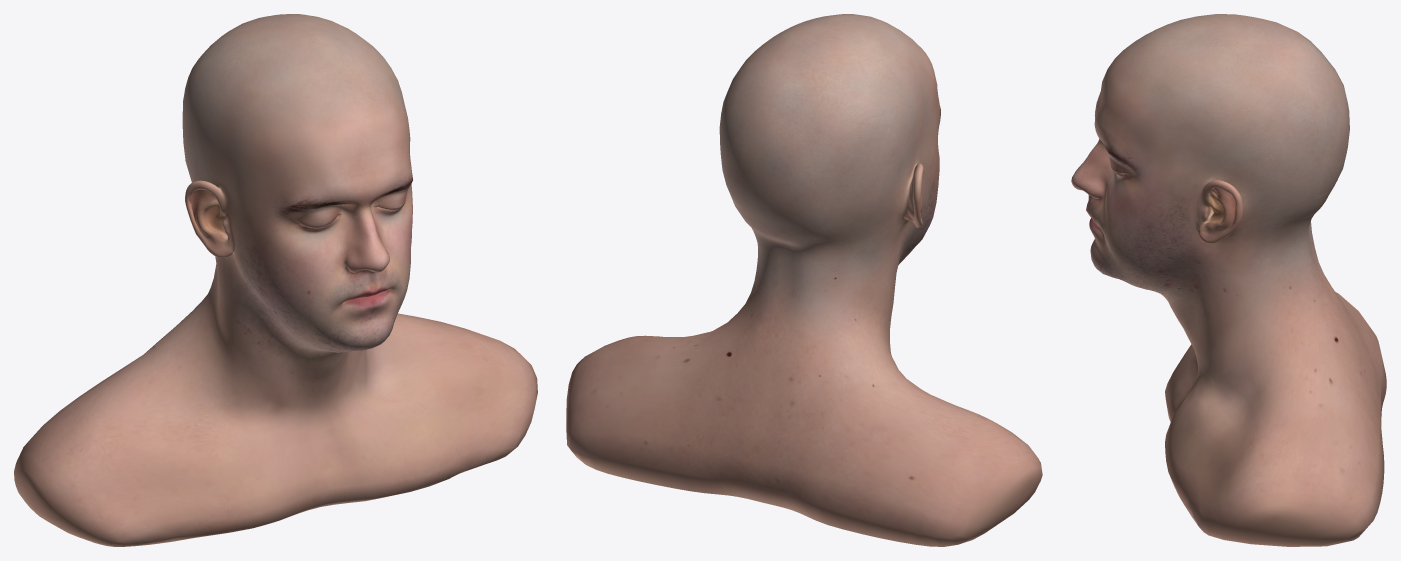
The model's file is lee-perry-smith.glb.
The picture shows the model from 3 angles, left to right: view 1: azimuth 30°, elevation 25°; view 2: azimuth 150°, elevation 25°; view 3: azimuth 270°, elevation 25°; orthographic projection. The views are drawn at different scales.
Visible parts, largest first — view 1: head; view 2: head; view 3: head.
Part boxes in pixels (bbox=[...]): head: bbox=[14, 14, 537, 546]; head: bbox=[566, 14, 1042, 546]; head: bbox=[1071, 14, 1386, 546].
Size of the model in its own units: 0.4533 by 0.4211 by 0.2746.
Materials: 1 (1 with a texture image).
